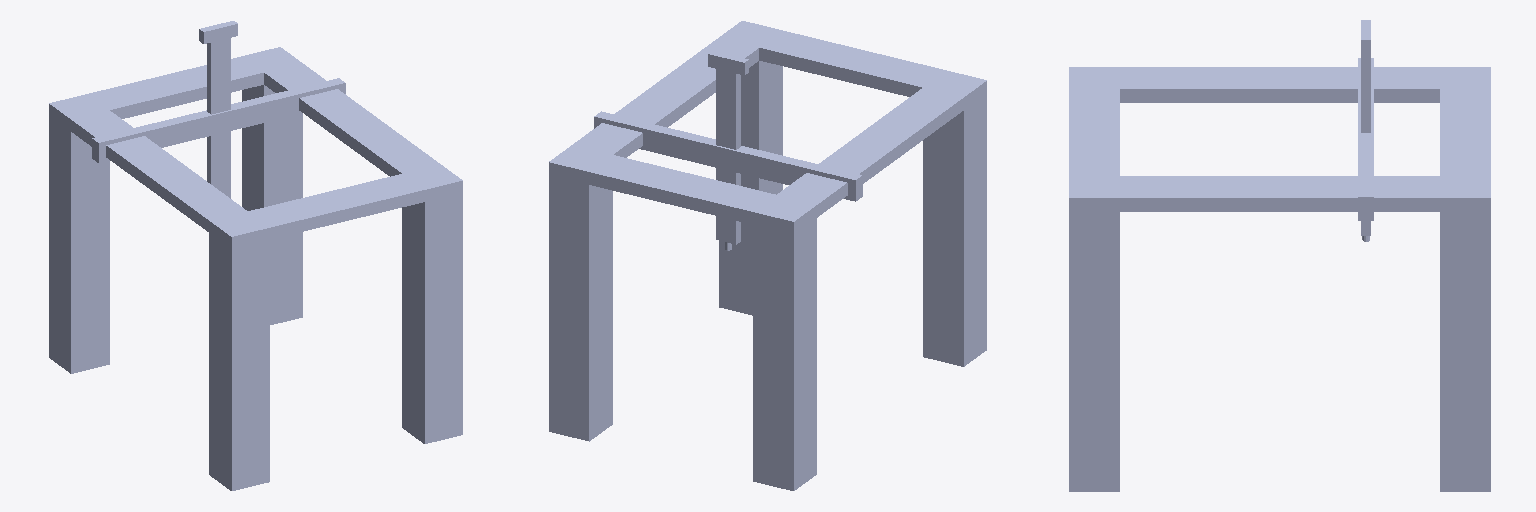
URDF robot description (gantry_robot):
<?xml version="1.0" encoding="utf-8"?>
<!-- Simplified URDF for a gantry robot -->
<robot name="gantry_robot">

  <link name="world"/>
  <joint
    name="world_to_dummy_joint"
    type="fixed">
    <parent link="world"/>
    <child link="dummy_link"/>
  </joint>

  <link name="dummy_link"/>
  <joint
    name="dummy_joint"
    type="fixed">
    <parent link="dummy_link"/>
    <child link="gantry_base"/>
  </joint>

  <link
    name="gantry_base">
    <inertial>
      <origin xyz="0.761999999999998 1.0414 1.12896315789474" rpy="0 0 0" />
      <mass value="261.537541439999" />
      <inertia ixx="250.903905040112" ixy="2.77435019402361E-13" ixz="-1.47257562822484E-13" iyy="163.69656521287" iyz="-2.95263846178068E-13" izz="276.537389580734" />
    </inertial>
    <visual>
      <origin xyz="0 0 0" rpy="0 0 0" />
      <geometry>
        <mesh filename="gantry_meshes/gantry_base.STL" />
      </geometry>
      <material name="">
        <color rgba="0.792156862745098 0.819607843137255 0.933333333333333 1" />
      </material>
    </visual>
    <collision>
      <origin xyz="0 0 0" rpy="0 0 0" />
      <geometry>
        <mesh filename="gantry_meshes/gantry_base.STL" />
      </geometry>
    </collision>
  </link>

  <link name="h_slider">
    <inertial>
      <origin xyz="-0.184255400209413 0.0635000000000032 -3.10862446895044E-15" rpy="0 0 0" />
      <mass value="11.96255672" />
      <inertia ixx="2.27659914886572" ixy="-1.31950083718528E-18" ixz="-6.53826116987587E-16" iyy="2.26399170710001" iyz="-8.84639806254247E-19" izz="0.0246245979980174" />
    </inertial>
    <visual>
      <origin xyz="0 0 0" rpy="0 0 0" />
      <geometry>
        <mesh filename="gantry_meshes/h_slider.STL" />
      </geometry>
      <material name="">
        <color rgba="0.792156862745098 0.819607843137255 0.933333333333333 1" />
      </material>
    </visual>
    <collision>
      <origin xyz="0 0 0" rpy="0 0 0" />
      <geometry>
        <mesh filename="gantry_meshes/h_slider.STL" />
      </geometry>
    </collision>
  </link>

  <joint
    name="h_slider_joint"
    type="prismatic">
    <origin xyz="0.761999999999999 1.651 1.4986" rpy="1.5707963267949 0 1.5707963267949" />
    <parent link="gantry_base" />
    <child link="h_slider" />
    <axis xyz="1 0 0" />
    <limit lower="-1.04" upper="0.22" effort="1" velocity="1" />
  </joint>

  <link name="v_slider">
    <inertial>
      <origin xyz="-2.22044604925031E-16 0.0412906505115238 -0.247755400209413" rpy="0 0 0" />
      <mass value="7.49764372086085" />
      <inertia ixx="0.81898723375128" ixy="3.10681166828544E-17" ixz="9.58825360543054E-19" iyy="0.014274274403217" iyz="-8.75329203593836E-18" izz="0.830051122898296" />
    </inertial>
    <visual>
      <origin xyz="0 0 0" rpy="0 0 0" />
      <geometry>
        <mesh filename="gantry_meshes/v_slider.STL" />
      </geometry>
      <material name="">
        <color rgba="0.792156862745098 0.819607843137255 0.933333333333333 1" />
      </material>
    </visual>
    <collision>
      <origin xyz="0 0 0" rpy="0 0 0" />
      <geometry>
        <mesh filename="gantry_meshes/v_slider.STL" />
      </geometry>
    </collision>
  </link>

  <joint
    name="v_slider_joint"
    type="prismatic">
    <origin xyz="0.0635000000000001 0.501641895675784 0" rpy="0 1.5707963267949 0" />
    <parent link="h_slider" />
    <child link="v_slider" />
    <axis xyz="0 1 0" />
    <limit lower="-0.80" upper="-0.02" effort="0" velocity="1" />
    <dynamics damping="1" friction="1"/>
  </joint>

</robot>

--- Facts derived from the render (not from the file) ---
Views: 3 orthographic renders of the robot side by side, from view 1: azimuth 30°, elevation 25°; view 2: azimuth 150°, elevation 25°; view 3: azimuth 270°, elevation 25°.
Model gantry_robot with 5 links and 4 joints (2 prismatic, 2 fixed), rooted at world, posed all joints at 0 but 1 set to mid-range because 0 is outside their limits (v_slider_joint = -0.41).
Visible links, largest first — view 1: gantry_base, h_slider, v_slider; view 2: gantry_base, h_slider, v_slider; view 3: gantry_base, h_slider, v_slider.
Link boxes in pixels (x1,y1,x2,y2): gantry_base: (49, 47, 462, 490); h_slider: (92, 78, 345, 162); v_slider: (199, 21, 237, 198); gantry_base: (549, 21, 986, 490); h_slider: (594, 111, 862, 201); v_slider: (708, 50, 748, 250); gantry_base: (1069, 67, 1490, 491); h_slider: (1358, 58, 1373, 220); v_slider: (1361, 20, 1370, 241).
Size in the robot's own frame: 1.63 by 2.08 by 2.16 metres.
3 mesh visuals loaded from 3 distinct referenced files (3 binary STL).